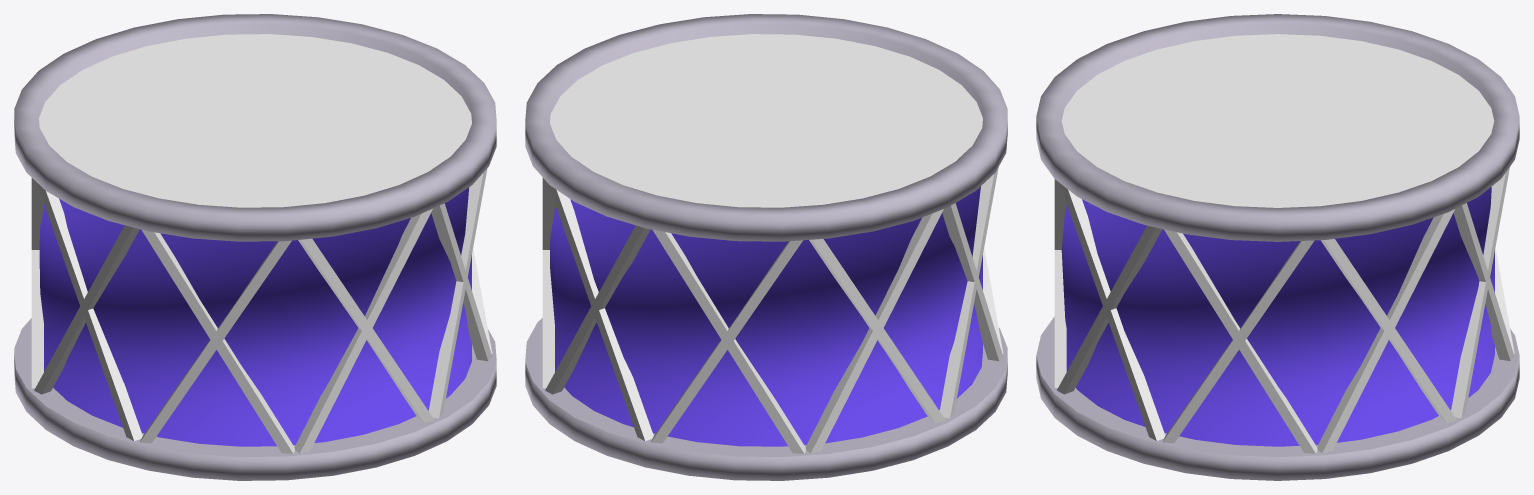
File: drum.fbx
The picture shows the model from 3 angles, left to right: view 1: azimuth 30°, elevation 25°; view 2: azimuth 150°, elevation 25°; view 3: azimuth 270°, elevation 25°; orthographic projection.
Parts seen in each view (by area): view 1: drum; view 2: drum; view 3: drum.
Part boxes in pixels (x1,y1,x2,y2): drum: [14, 14, 496, 480]; drum: [525, 14, 1007, 480]; drum: [1036, 14, 1519, 480].
Bounding box in the file's own units: 200 × 120 × 200.
